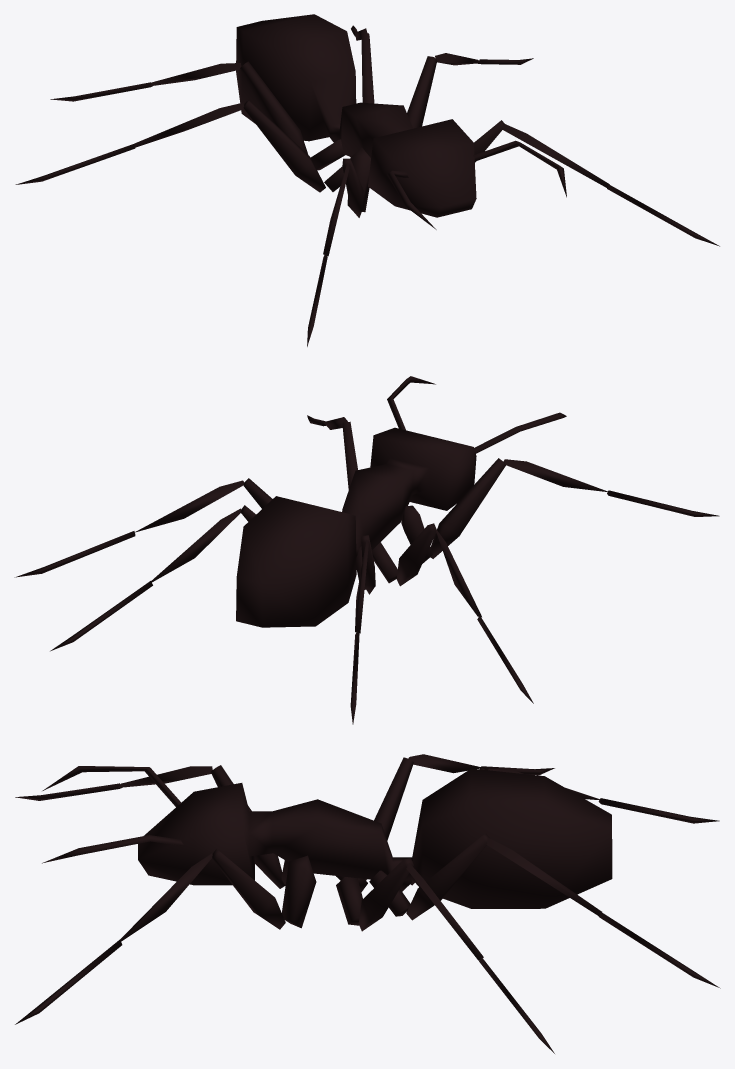
Rendered from 86759d62-27ec-4f6a-bad0-ff106429204f.glb.
The picture shows the model from 3 angles, top to bottom: view 1: azimuth 30°, elevation 25°; view 2: azimuth 150°, elevation 25°; view 3: azimuth 270°, elevation 25°; orthographic projection. The views are drawn at different scales.
Parts seen in each view (by area): view 1: Ant; view 2: Ant; view 3: Ant.
Part boxes in pixels (left/top/right/bottom): Ant: left=15, top=14, right=719, bottom=346; Ant: left=14, top=376, right=719, bottom=724; Ant: left=15, top=754, right=720, bottom=1053.
Size of the model in its own units: 0.224 by 0.0449 by 0.2334.
Materials: 1 (1 with a texture image).
